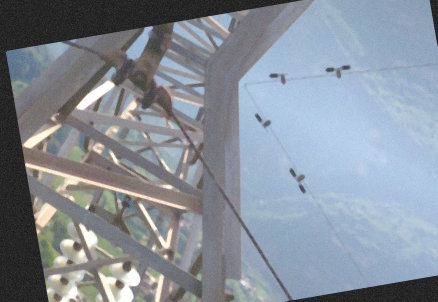damper: (288, 165, 307, 195), (325, 63, 352, 79)
damper_defect: (252, 111, 272, 135), (269, 70, 291, 85)
